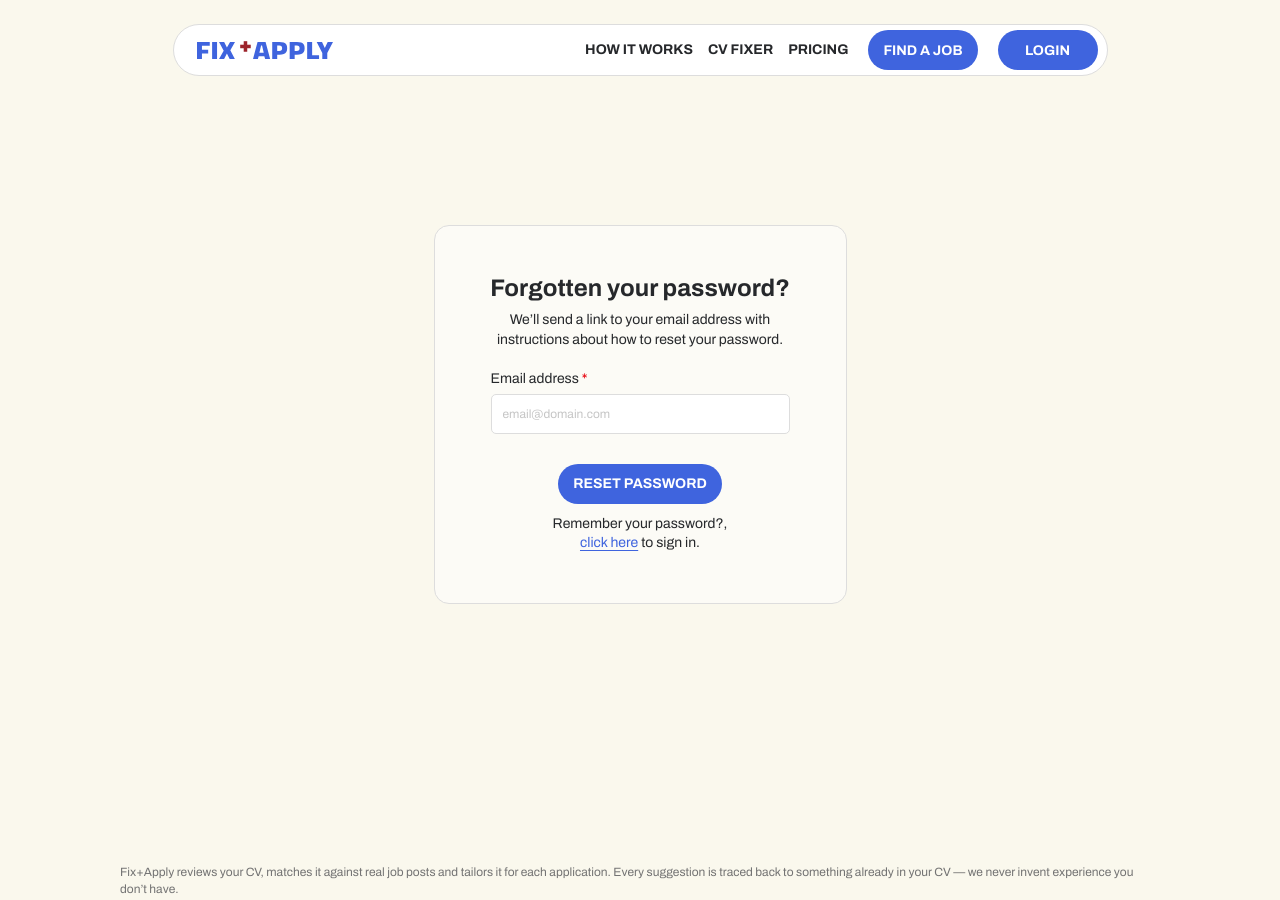
ForgotPasswordPage › says so honestly when the server can't send email (503)
The width and height of the screenshot is (1280, 900).
Type "jo@example.com" into the field labelled "Email address *" at (640, 414), box [492,395,788,433]
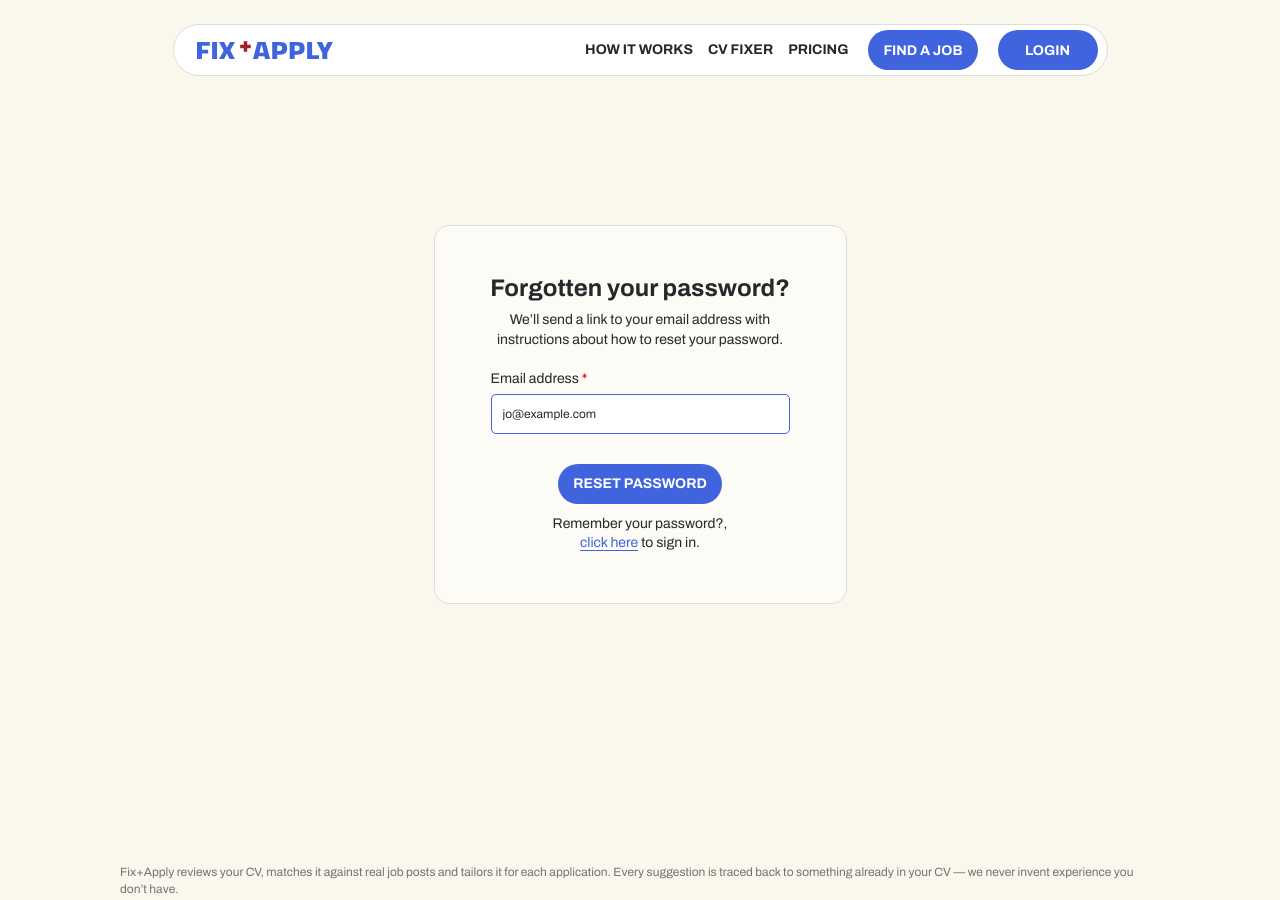
Click the button "Reset password" at (640, 484), box [558,464,722,504]
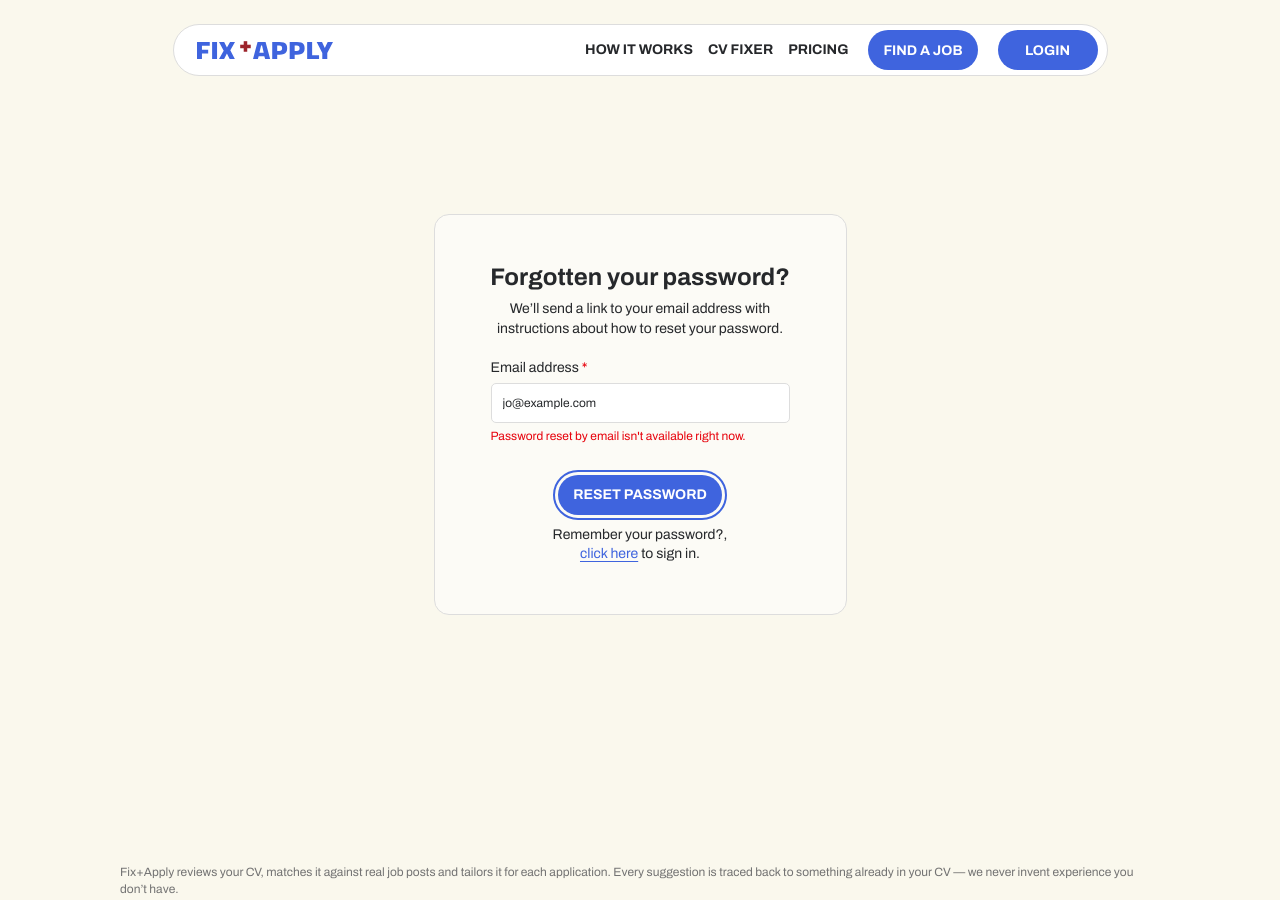
Expected: the text "Password reset by email isn't available right now." is shown, [490,428,790,445]
